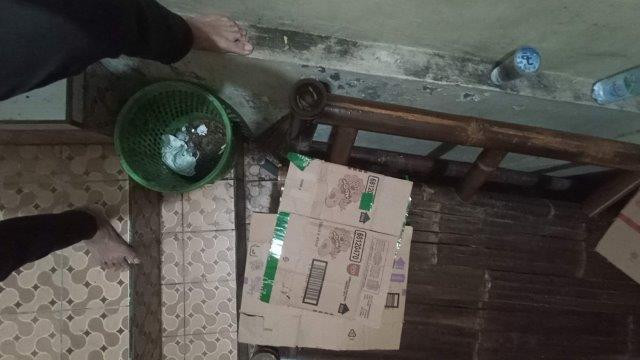kardus: (239, 157, 413, 349)
